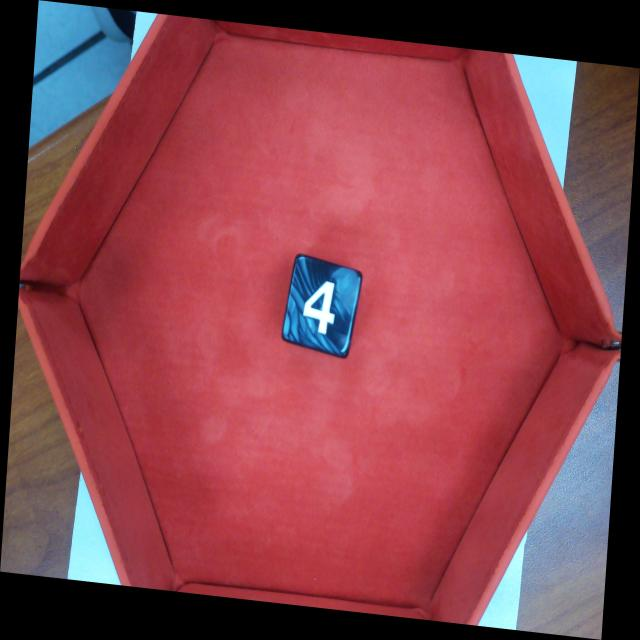dice: (280, 252, 362, 359)
